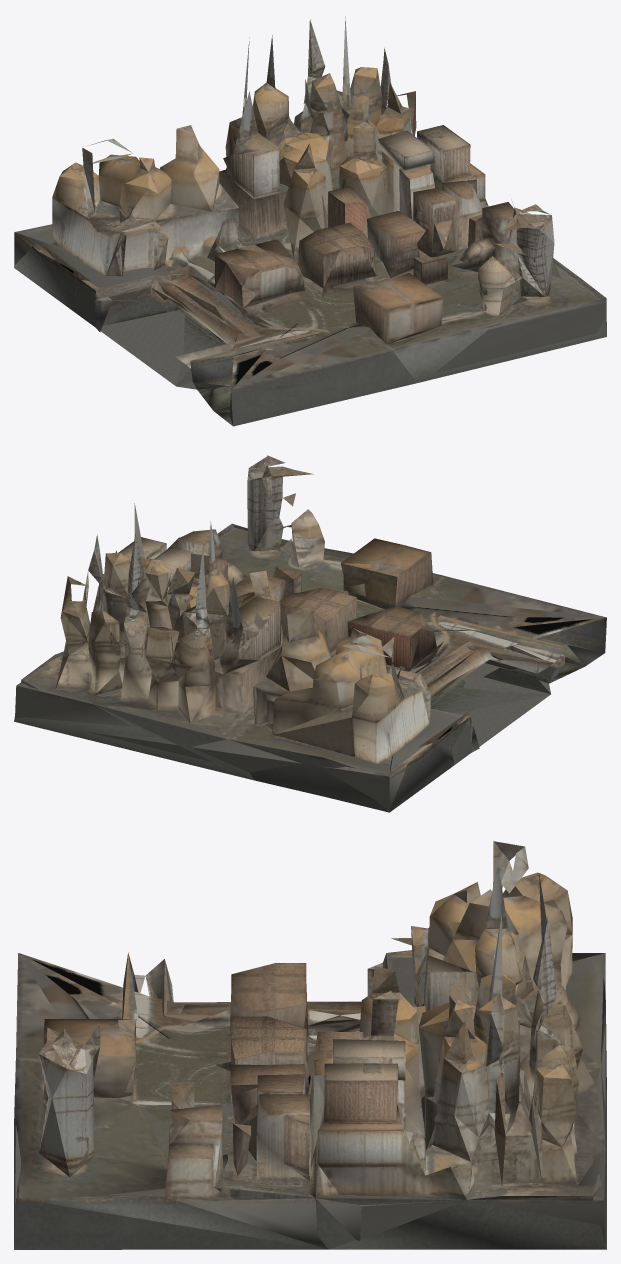
File: Meshy_AI_concrete_drainage_cha_0822235422_texture.obj
3 renders of one model, top to bottom at view 1: azimuth 30°, elevation 25°; view 2: azimuth 150°, elevation 25°; view 3: azimuth 270°, elevation 25°, orthographic. The views are drawn at different scales.
Visible parts, largest first — view 1: Meshy_AI_concrete_drainage_cha_0822235422_texture; view 2: Meshy_AI_concrete_drainage_cha_0822235422_texture; view 3: Meshy_AI_concrete_drainage_cha_0822235422_texture.
Boxes of the visible parts, x1,y1,x2,y2 form: Meshy_AI_concrete_drainage_cha_0822235422_texture: (14, 16, 606, 426); Meshy_AI_concrete_drainage_cha_0822235422_texture: (14, 455, 606, 812); Meshy_AI_concrete_drainage_cha_0822235422_texture: (14, 841, 606, 1249).
Size of the model in its own units: 1.89 by 1.01 by 1.9.
